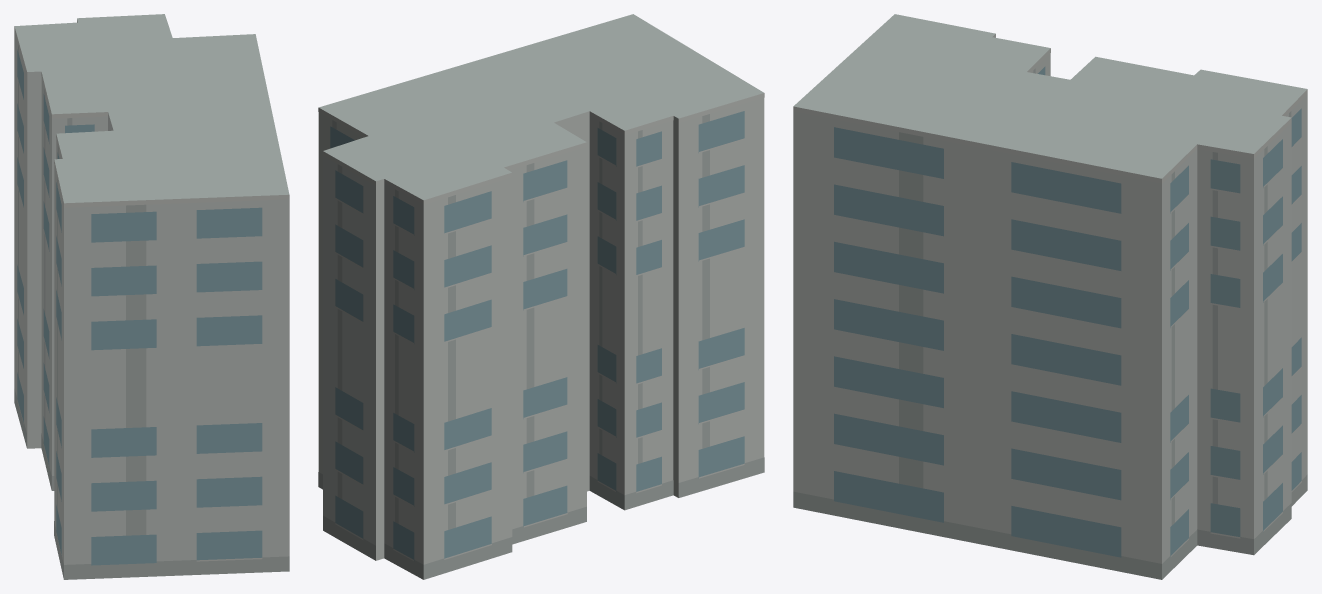
The model's file is survey-upis-32737704.glb.
The picture shows the model from 3 angles, left to right: view 1: azimuth 30°, elevation 25°; view 2: azimuth 150°, elevation 25°; view 3: azimuth 270°, elevation 25°; orthographic projection. The views are drawn at different scales.
Visible parts, largest first — view 1: survey-upis-32737704.tmp; view 2: survey-upis-32737704.tmp; view 3: survey-upis-32737704.tmp.
Part boxes in pixels (x1=…): survey-upis-32737704.tmp: x1=14, y1=14, x2=289, y2=579; survey-upis-32737704.tmp: x1=318, y1=14, x2=764, y2=579; survey-upis-32737704.tmp: x1=793, y1=14, x2=1307, y2=579.
Bounding box in the file's own units: 17.54 × 19.9 × 23.14.
